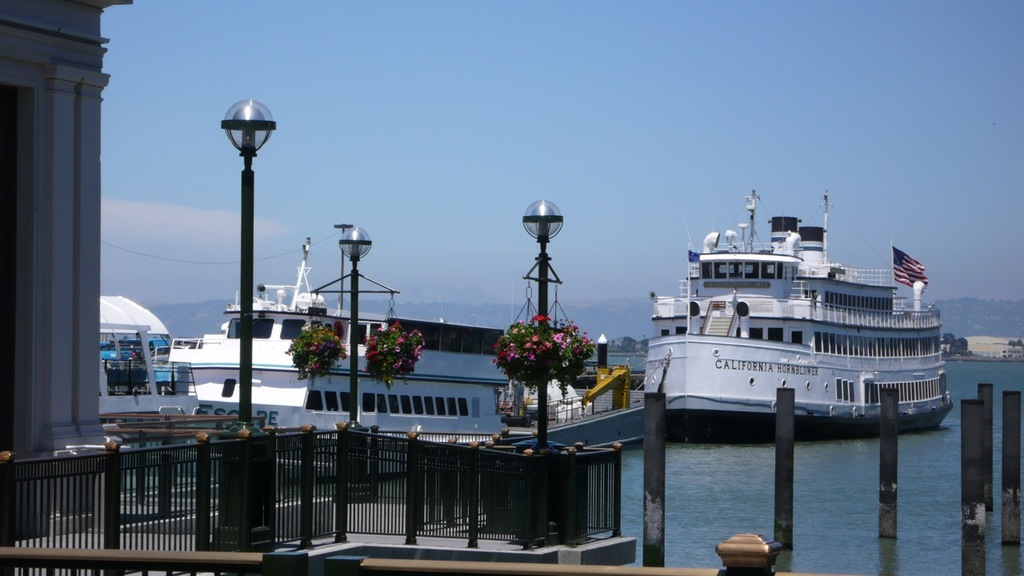boat: (636, 160, 962, 457), (173, 233, 520, 452)
